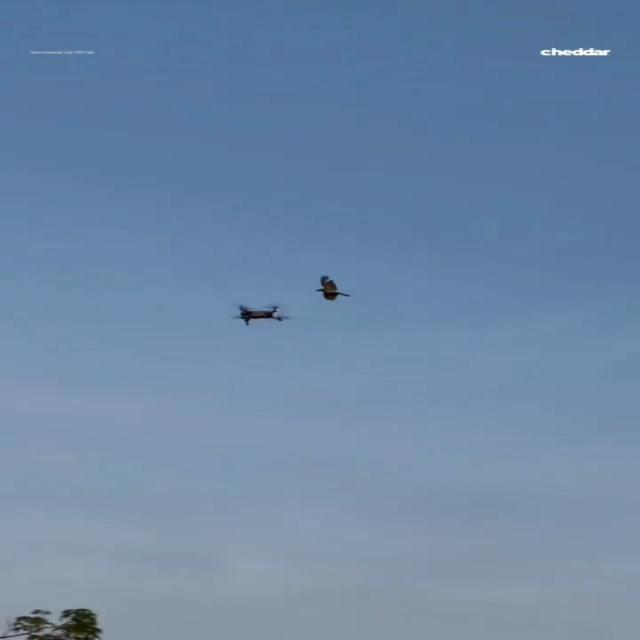bird: (314, 275, 350, 301)
drone: (233, 304, 284, 326)
